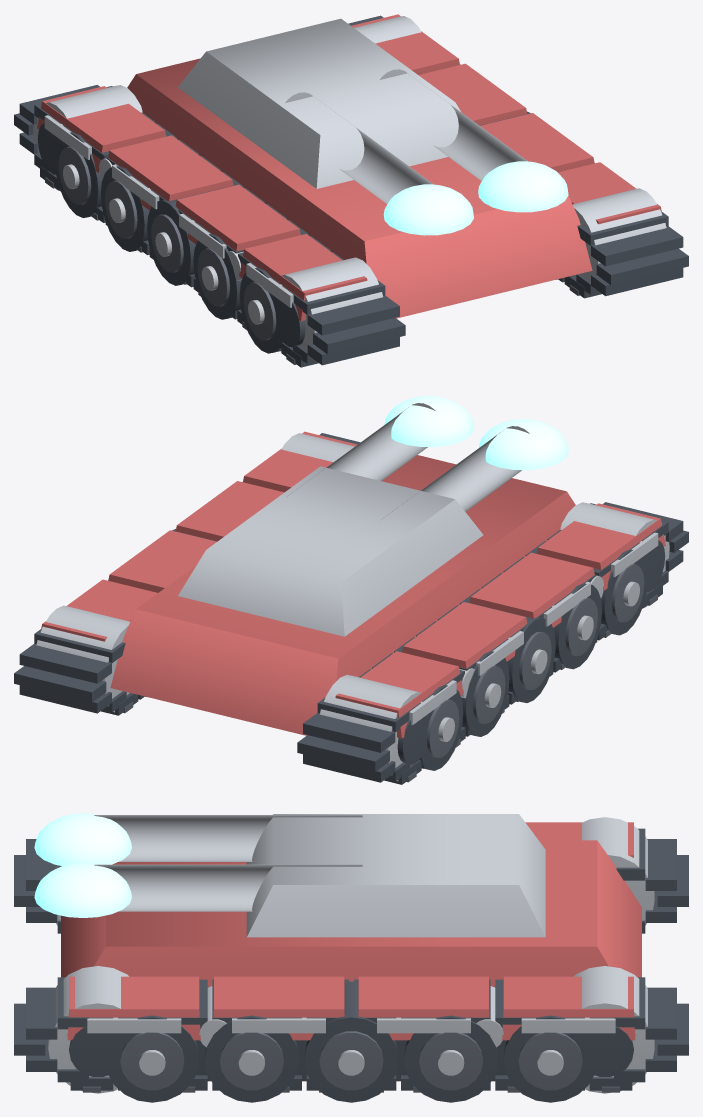
The model's file is ttnk.glb.
3 renders of one model, top to bottom at view 1: azimuth 30°, elevation 25°; view 2: azimuth 150°, elevation 25°; view 3: azimuth 270°, elevation 25°, orthographic. The views are drawn at different scales.
Parts seen in each view (by area): view 1: Hull, Turret; view 2: Hull, Turret; view 3: Hull, Turret.
Boxes of the visible parts, x1,y1,x2,y2 form: Hull: [14, 14, 688, 367]; Turret: [136, 18, 568, 241]; Hull: [14, 431, 688, 784]; Turret: [136, 396, 568, 658]; Hull: [14, 817, 688, 1102]; Turret: [34, 813, 597, 946].
Size of the model in its own units: 2.03 by 0.7816 by 2.9.
